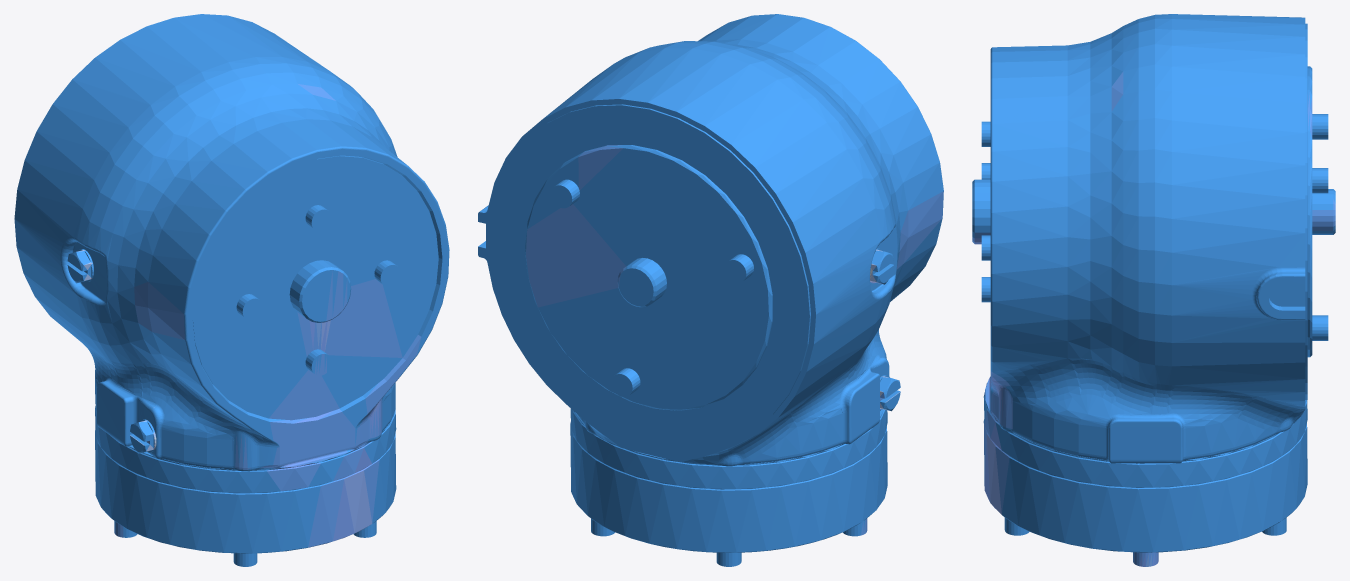
Rendered from YaskawaGP4Link5.dae.
3 views of the same model, side by side, from view 1: azimuth 30°, elevation 25°; view 2: azimuth 150°, elevation 25°; view 3: azimuth 270°, elevation 25° (orthographic). The views are drawn at different scales.
Visible parts, largest first — view 1: YaskawaGP4Link5; view 2: YaskawaGP4Link5; view 3: YaskawaGP4Link5.
Boxes of the visible parts, x1,y1,x2,y2 form: YaskawaGP4Link5: [14, 14, 449, 566]; YaskawaGP4Link5: [478, 14, 943, 566]; YaskawaGP4Link5: [972, 14, 1335, 566].
Size of the model in its own units: 0.087 by 0.0785 by 0.1113.
